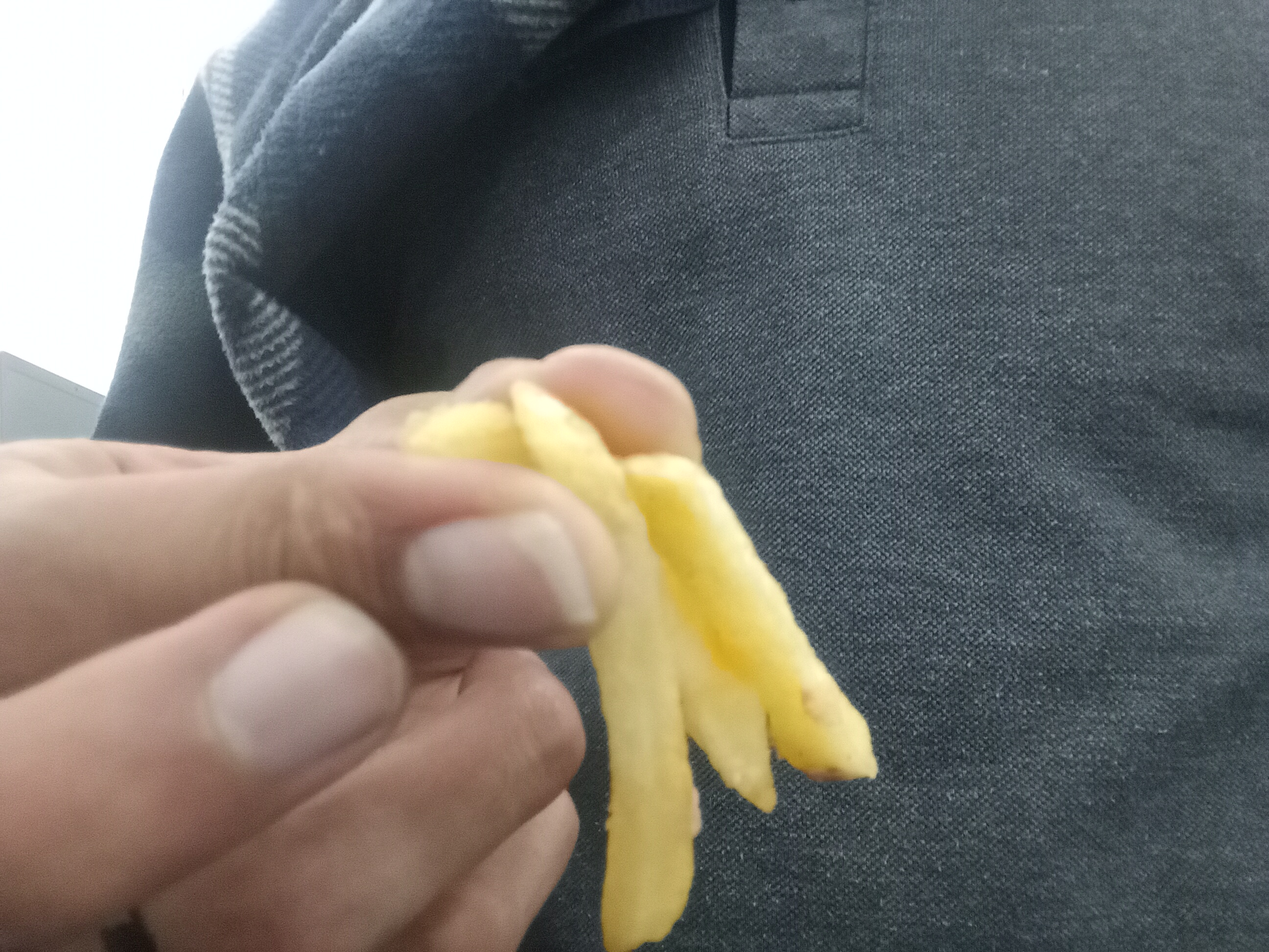Organico: (409, 378, 877, 952)
